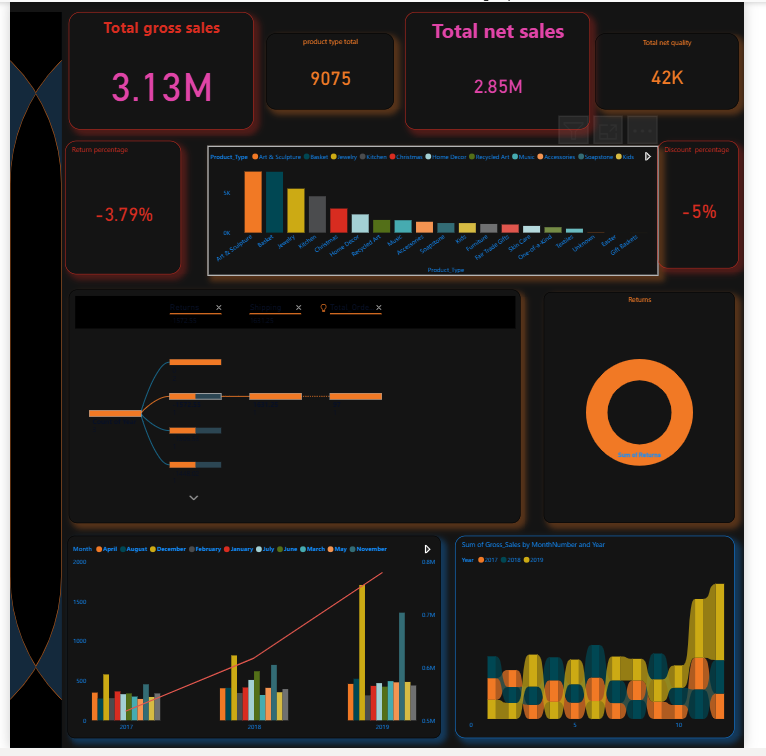

The page's visual inventory and layout, read from the dashboard file:
{"tool":"powerbi","page":{"name":"Page 1","canvas":[1280,1300],"ordinal":0},"visuals":[{"type":"shape","box":[0,17.5,90,1282.5],"z":0},{"type":"columnChart","fields":{"Category":["ProductSales.Product_Type"],"Y":["Sum(ProductSales.Net_Quantity)"],"Series":["ProductSales.Product_Type"]},"box":[326.7,248.3,786.4,226.5],"z":4000},{"type":"card","title":"Total net sales","fields":{"Values":["Sum(ProductSales.Total_Net_Sales)"]},"box":[687.5,17.5,322.5,205],"z":5000},{"type":"card","title":"Total net quality","fields":{"Values":["Sum(ProductSales.Net_Quantity)"]},"box":[1020,55,250,132.5],"z":6000},{"type":"card","title":"product type total ","fields":{"Values":["CountNonNull(ProductSales.Product_Type)"]},"box":[447.5,55,222.5,132.5],"z":7000},{"type":"lineClusteredColumnComboChart","title":" Total Orders and  Total Sales by  Month,  and Year","fields":{"Category":["SummarySales.Year"],"Y":["Sum(SummarySales.Total_Orders)"],"Y2":["Sum(SummarySales.Total_Sales)"],"Series":["SummarySales.Month"]},"box":[100,930,650,352.5],"z":8000},{"type":"donutChart","title":"Returns","fields":{"Y":["Sum(SummarySales.Returns)"]},"box":[930,505,332.5,402.5],"z":9000},{"type":"decompositionTreeVisual","fields":{"Analyze":["Count(SummarySales.Year)"],"ExplainBy":["SummarySales.Returns","SummarySales.Shipping","SummarySales.Total_Orders"]},"box":[102.5,500,787.5,407.5],"z":10000},{"type":"ribbonChart","fields":{"Category":["SummarySales.MonthNumber"],"Series":["SummarySales.Year"],"Y":["Sum(SummarySales.Gross_Sales)"]},"box":[775,930,487.5,352.5],"z":11000},{"type":"card","title":"Total gross sales","fields":{"Values":["Sum(ProductSales.Gross_Sales)"]},"box":[102.5,17.5,322.5,205],"z":13000},{"type":"card","title":"Discount  percentage","fields":{"Values":["ProductSales.TOTAL DICUNT PRT"]},"box":[1130.5,248.3,141.6,222.2],"z":14000},{"type":"card","title":"Return percentage","fields":{"Values":["ProductSales.TOTAL RETURN PRT"]},"box":[95.8,241.8,202.6,233.1],"z":15000}]}

Visuals, with their boxes in screenshot pixels (x1, y1, x2, y2), scaled from the page's 1280x1300 canvas onto the 766x756 screenshot:
shape: x1=0, y1=10, x2=54, y2=755
columnChart - ProductSales.Product_Type x Sum(ProductSales.Net_Quantity): x1=196, y1=144, x2=666, y2=276
"Total net sales" card: x1=411, y1=10, x2=604, y2=129
"Total net quality" card: x1=610, y1=32, x2=760, y2=109
"product type total " card: x1=268, y1=32, x2=401, y2=109
" Total Orders and  Total Sales by  Month,  and Year" lineClusteredColumnComboChart: x1=60, y1=541, x2=449, y2=746
"Returns" donutChart: x1=557, y1=294, x2=756, y2=528
decompositionTreeVisual - Count(SummarySales.Year) x SummarySales.Returns: x1=61, y1=291, x2=533, y2=528
ribbonChart - SummarySales.MonthNumber x SummarySales.Year: x1=464, y1=541, x2=756, y2=746
"Total gross sales" card: x1=61, y1=10, x2=254, y2=129
"Discount  percentage" card: x1=677, y1=144, x2=761, y2=274
"Return percentage" card: x1=57, y1=141, x2=179, y2=276
